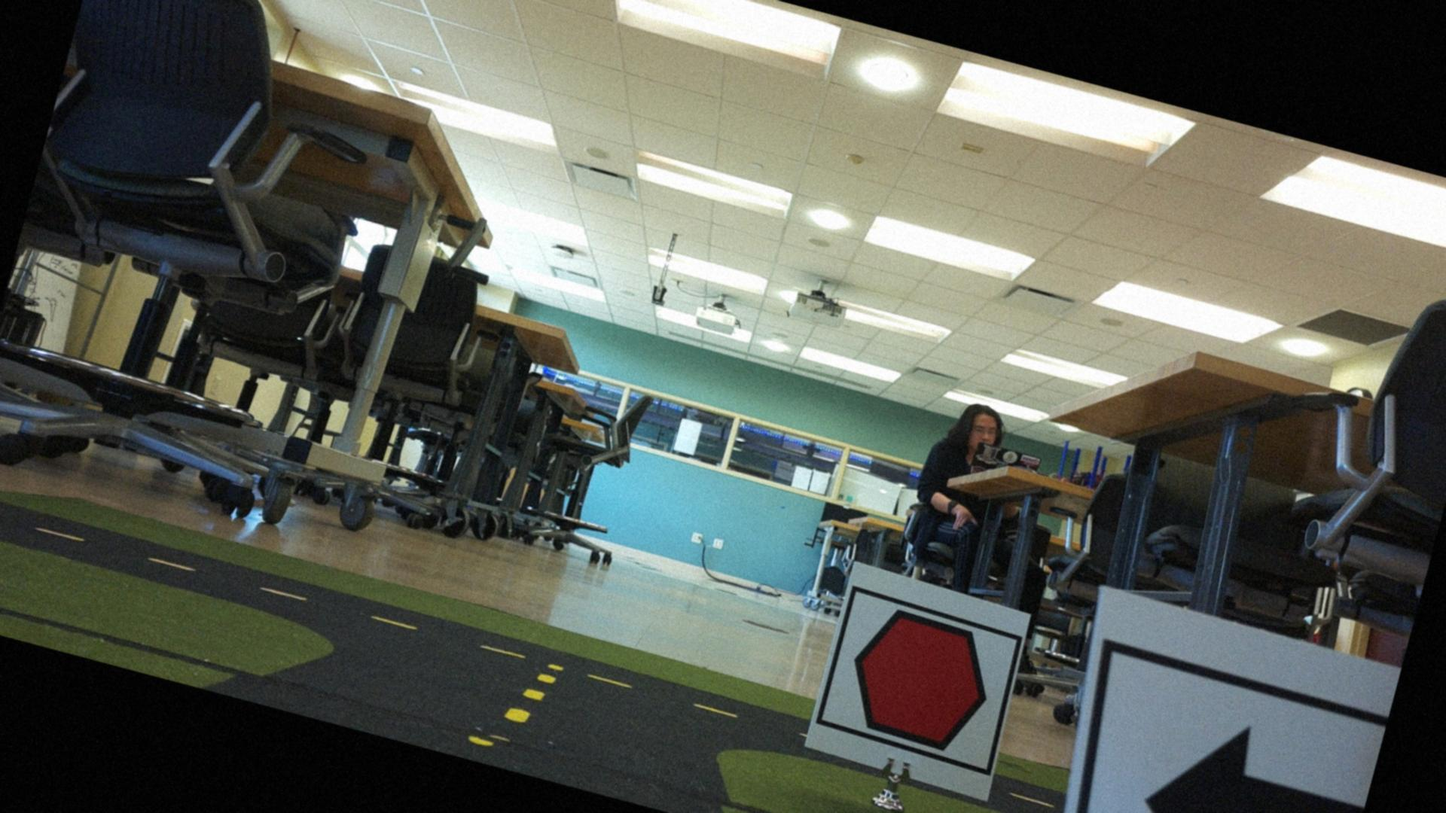stop: (815, 594, 1021, 773)
turnright: (1065, 659, 1385, 812)
yellowline: (505, 662, 557, 731)
